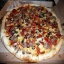pizza: (2, 4, 61, 60)
